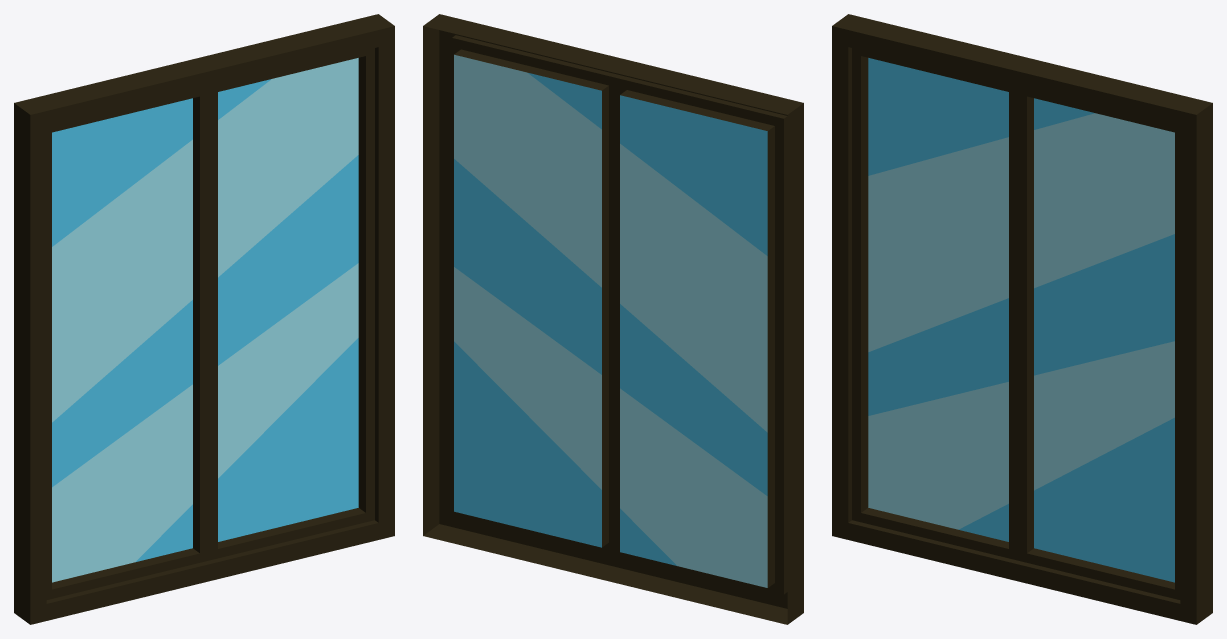
File: Prop_BuildingWindow_01.fbx
3 views of the same model, side by side, from view 1: azimuth 30°, elevation 25°; view 2: azimuth 150°, elevation 25°; view 3: azimuth 330°, elevation 25° (orthographic).
Visible parts, largest first — view 1: Prop_BuildingWindow_01; view 2: Prop_BuildingWindow_01; view 3: Prop_BuildingWindow_01.
Boxes of the visible parts, x1,y1,x2,y2 form: Prop_BuildingWindow_01: [14, 14, 394, 624]; Prop_BuildingWindow_01: [423, 14, 803, 624]; Prop_BuildingWindow_01: [832, 14, 1212, 624].
Size of the model in its own units: 109 by 145 by 8.49.
